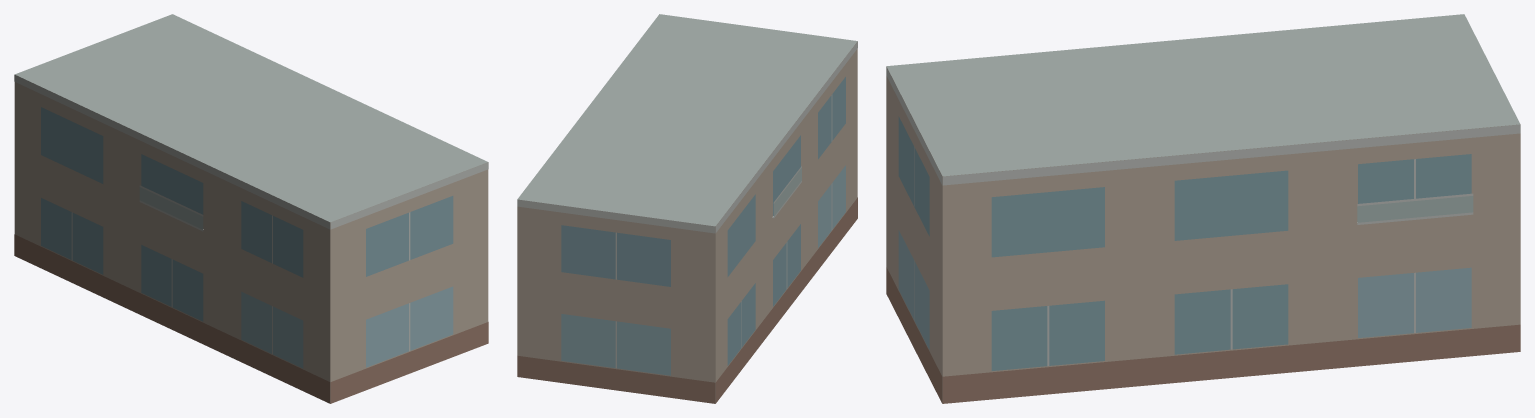
File: survey-upis-32710393.glb
3 renders of one model, left to right at view 1: azimuth 30°, elevation 25°; view 2: azimuth 150°, elevation 25°; view 3: azimuth 270°, elevation 25°, orthographic. The views are drawn at different scales.
Parts seen in each view (by area): view 1: survey-upis-32710393.tmp; view 2: survey-upis-32710393.tmp; view 3: survey-upis-32710393.tmp.
Boxes of the visible parts, <box> form: survey-upis-32710393.tmp: <box>14,14,488,403</box>; survey-upis-32710393.tmp: <box>517,14,857,403</box>; survey-upis-32710393.tmp: <box>886,14,1520,403</box>.
Size of the model in its own units: 9.35 by 6.1 by 15.43.
